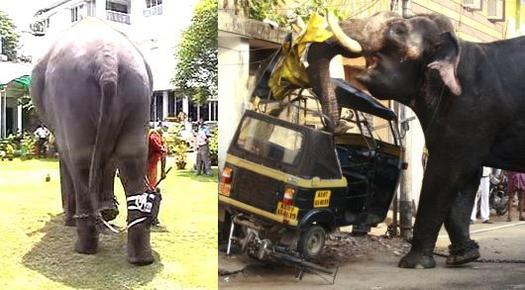elephant: (310, 10, 525, 265), (26, 23, 158, 269)
